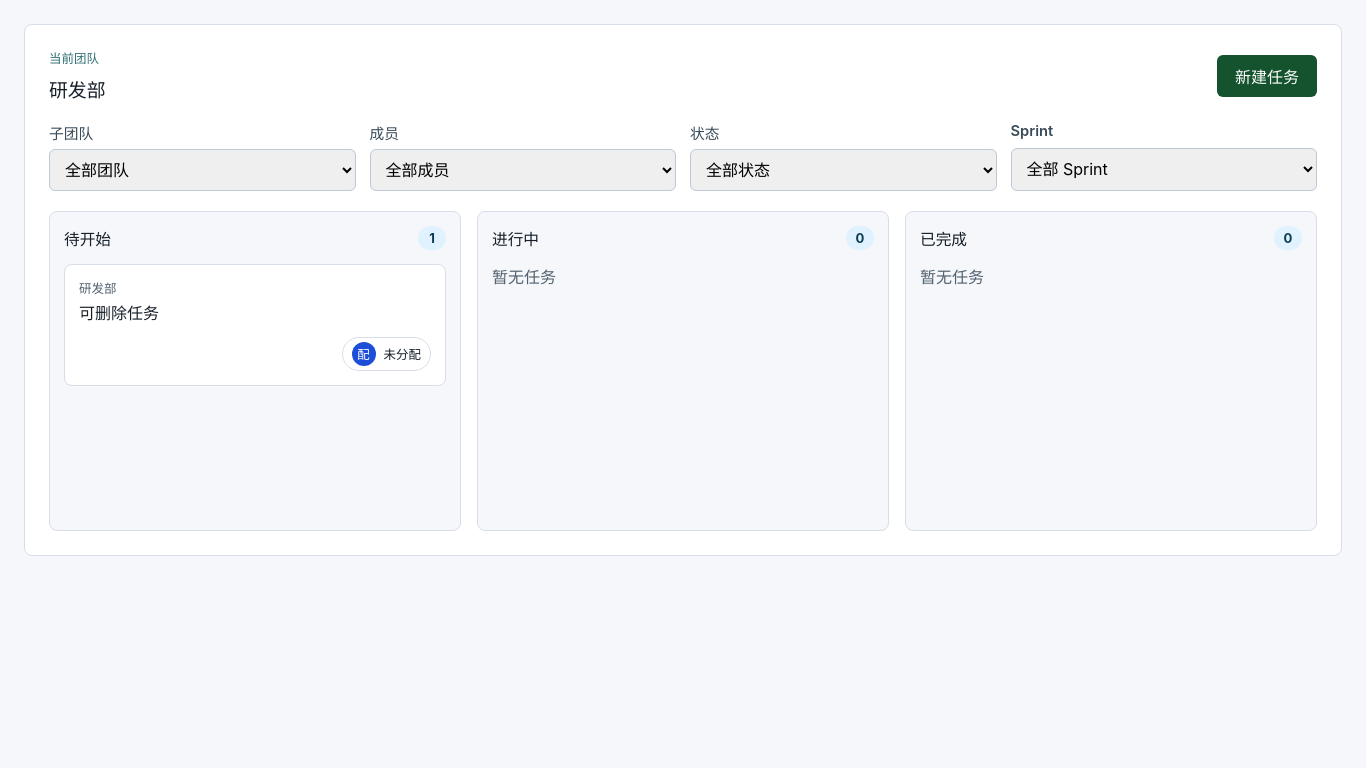
BoardPage › keeps task deletion in the modal and deletes task from there
Expected: the text "可删除任务" is shown, [79,303,159,323]
Double-click the text "可删除任务".
double_click(255, 325)  # box [64,264,446,386]
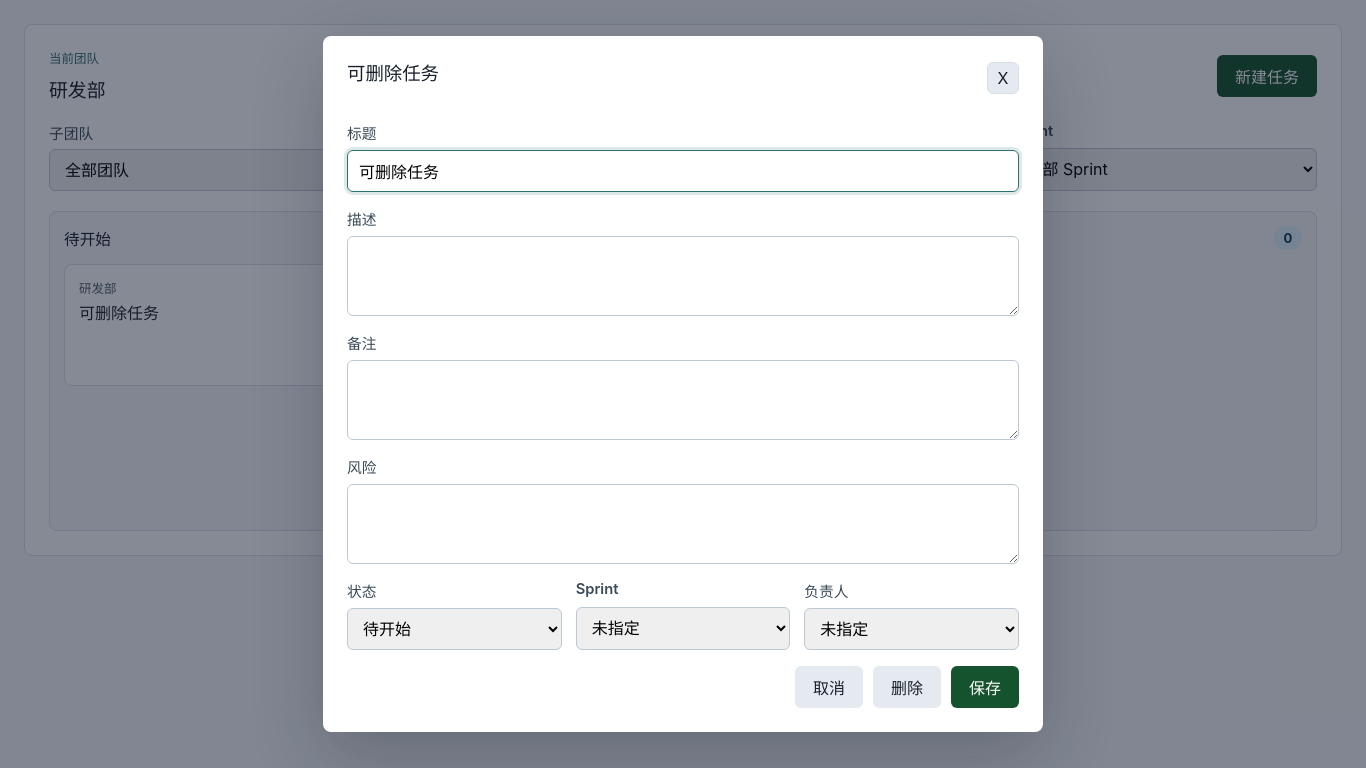
Click the button "删除".
click(907, 687)  # box [873,666,941,708]
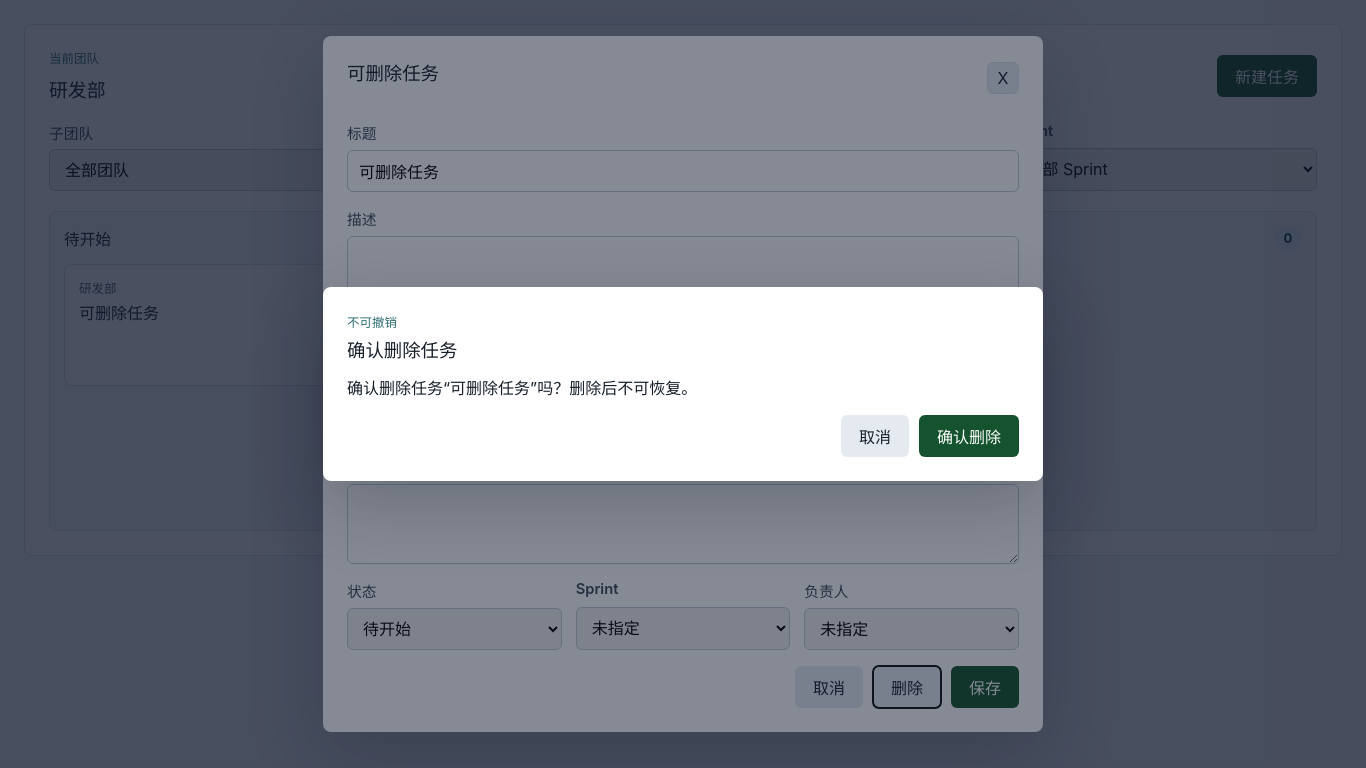
Now the dialog "确认删除任务" is shown, box [323,287,1043,481]
Click the button "确认删除".
click(969, 436)  # box [919,415,1019,457]
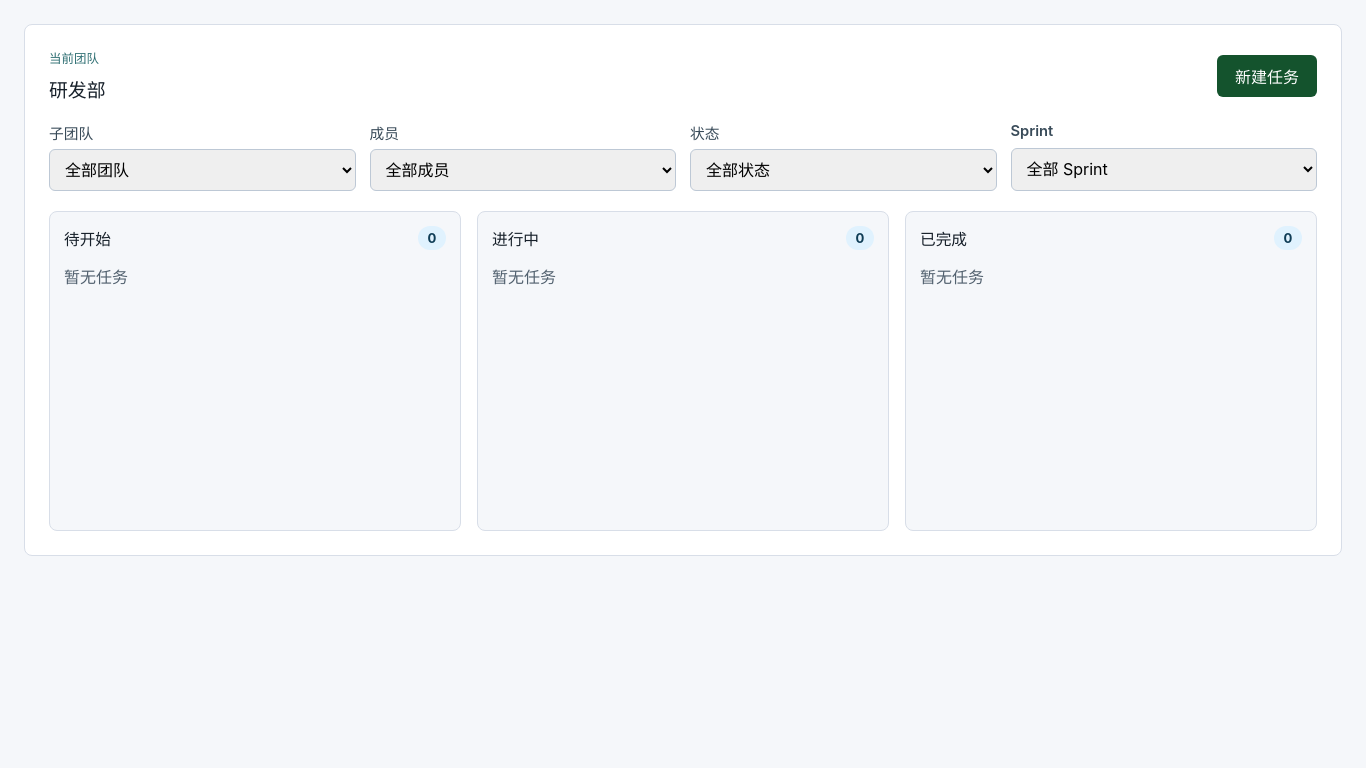
Now the heading "可删除任务" is gone
